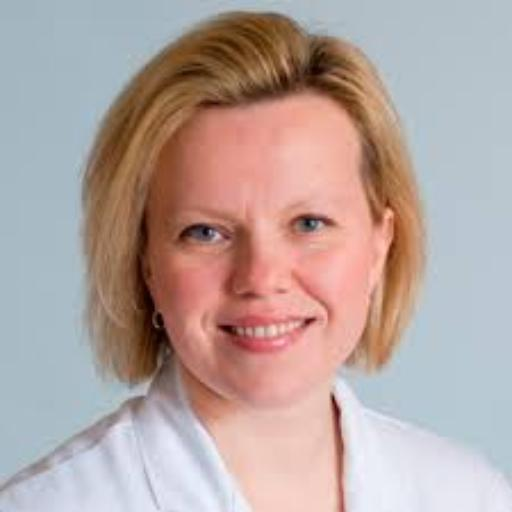left_eye: (286, 214, 341, 239)
left_lip_corner: (305, 313, 327, 332)
right_eye: (180, 223, 234, 248)
right_lip_corner: (208, 318, 235, 341)
